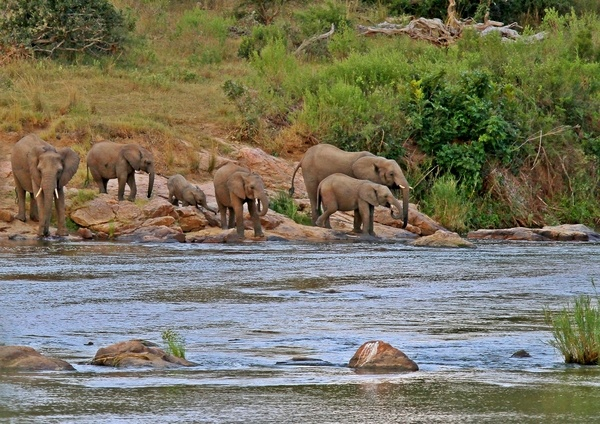elephant: (292, 143, 413, 237), (9, 133, 79, 238), (315, 170, 402, 235), (210, 156, 269, 238), (86, 139, 155, 200), (165, 172, 215, 219)
